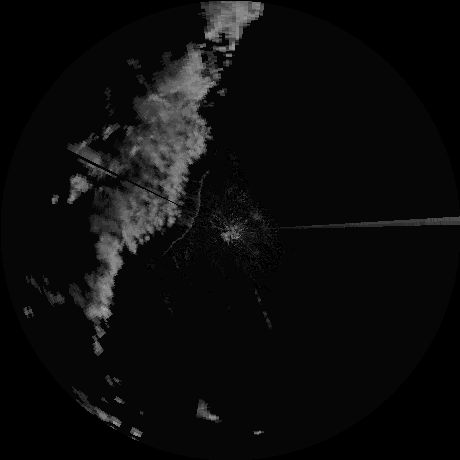frontgust: (169, 170, 207, 252)
